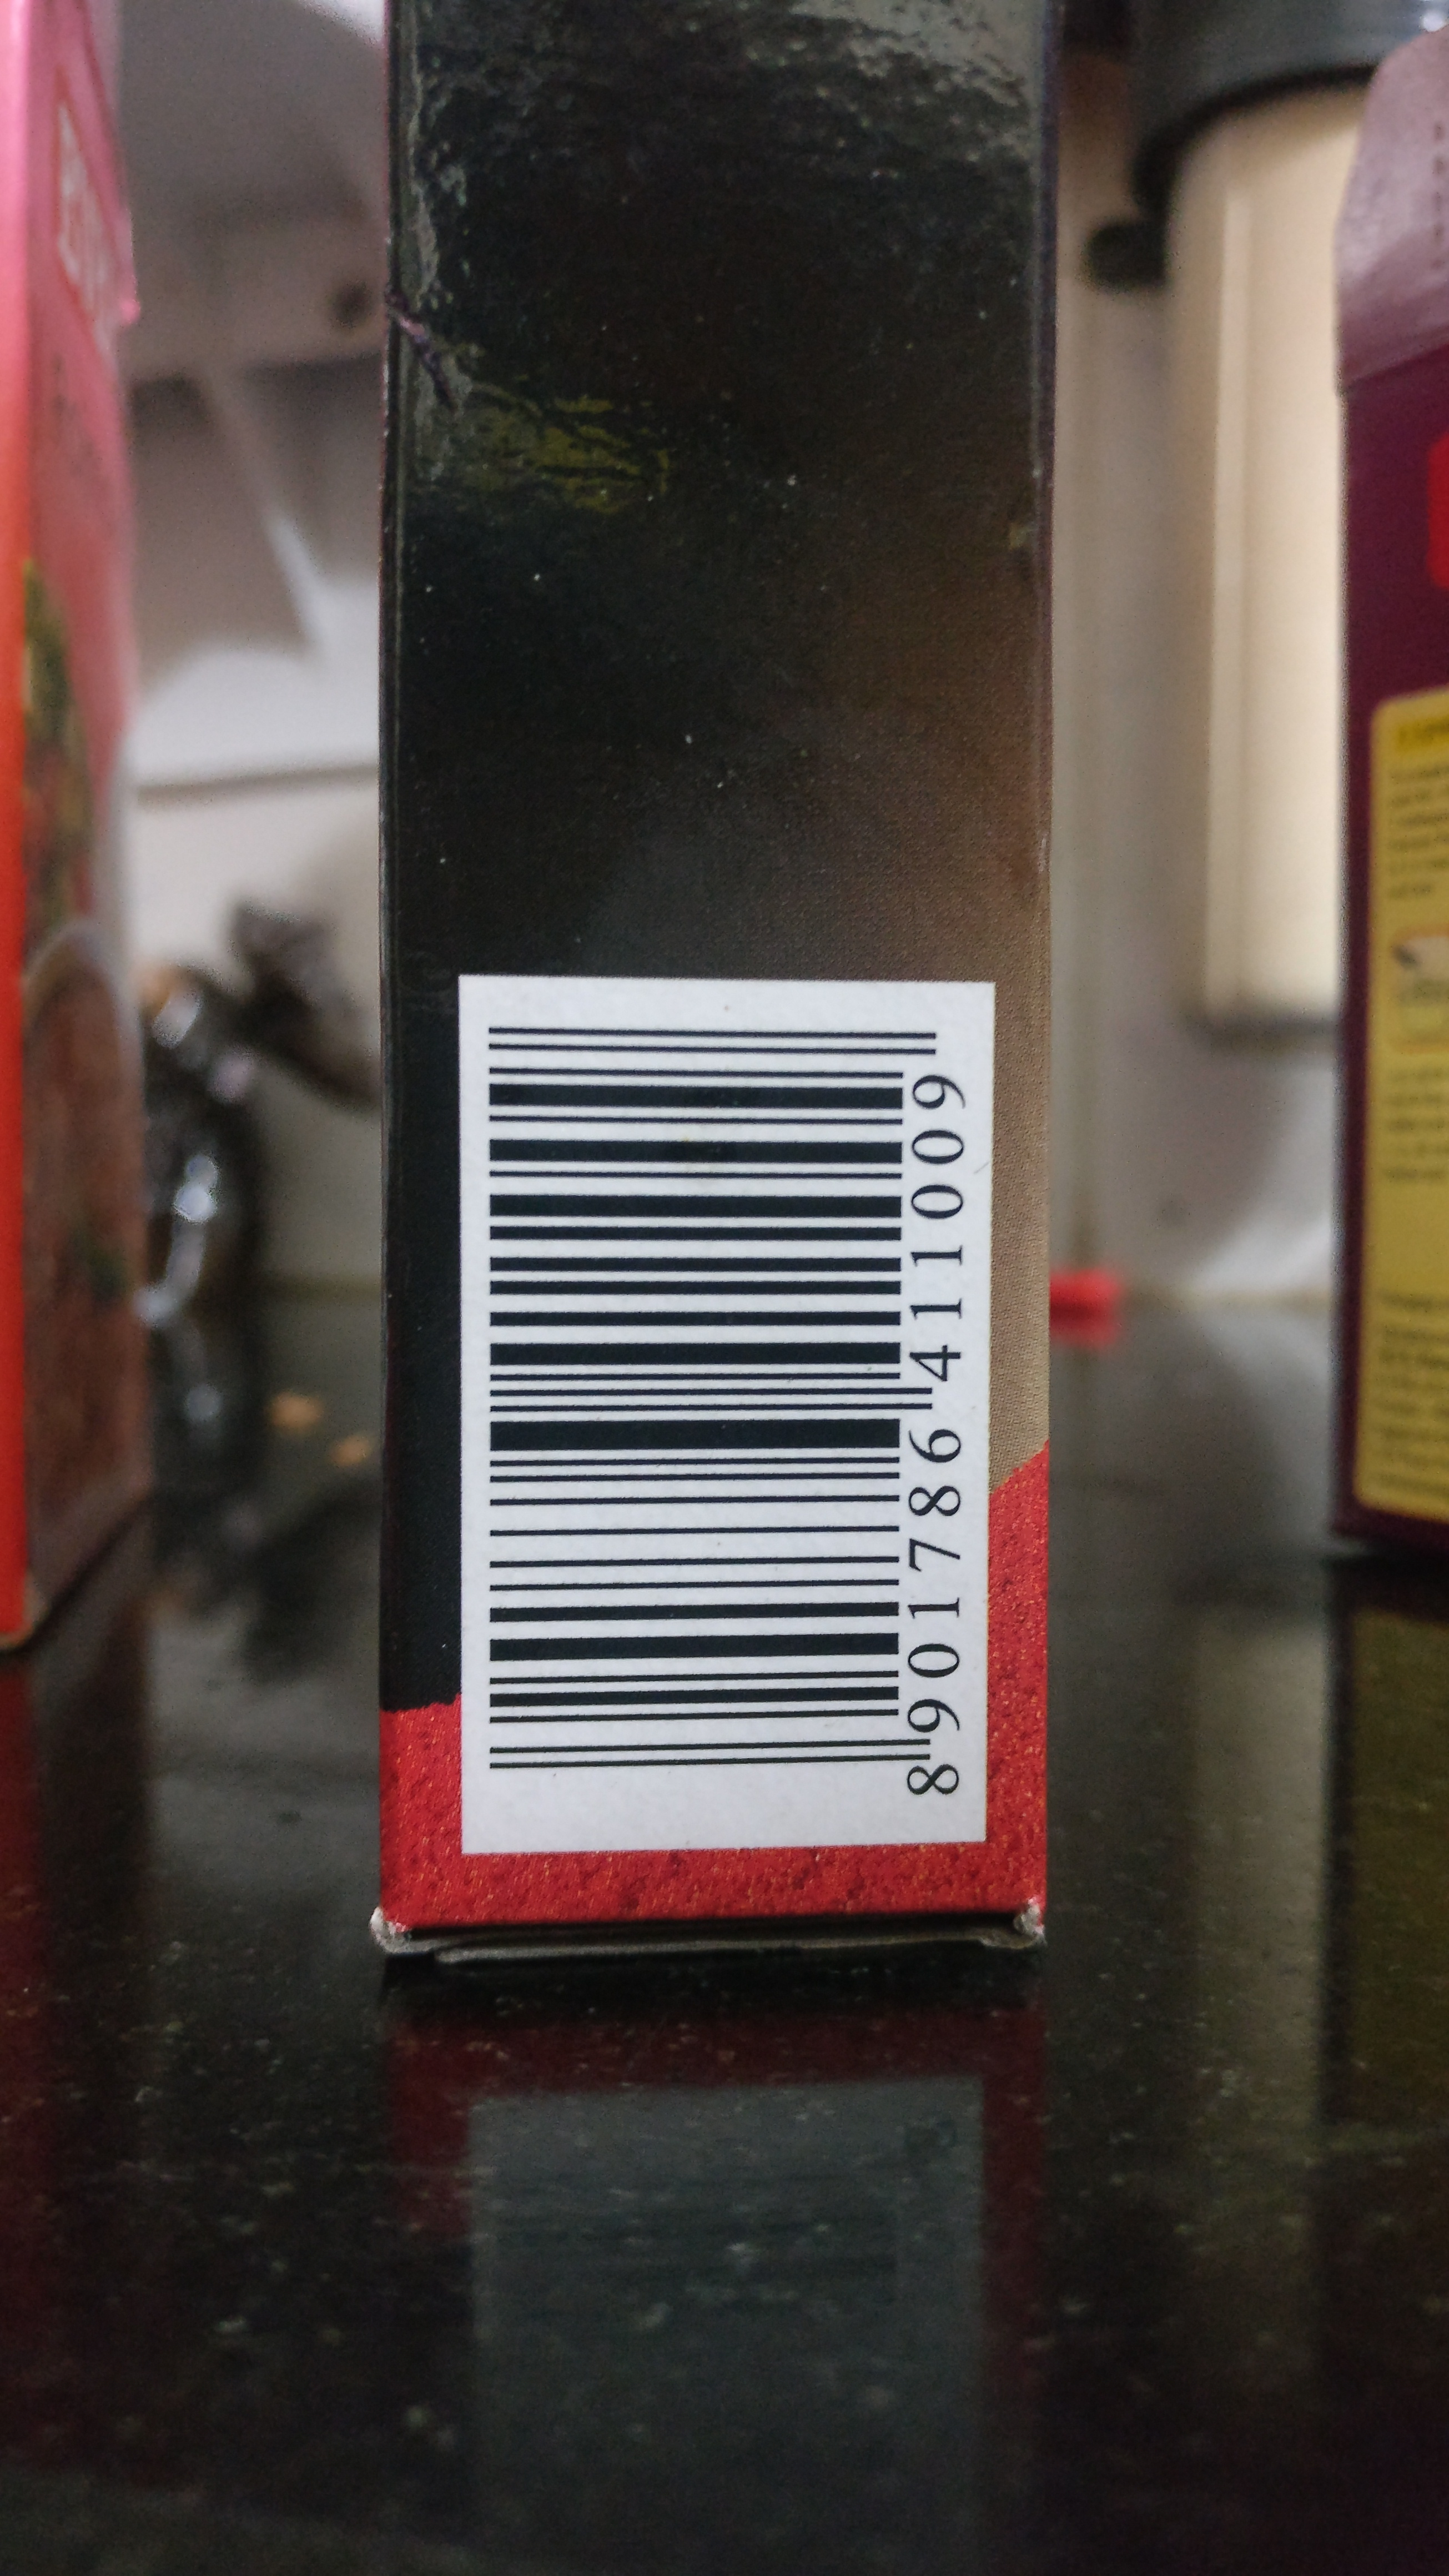barcode: (460, 970, 993, 1845)
